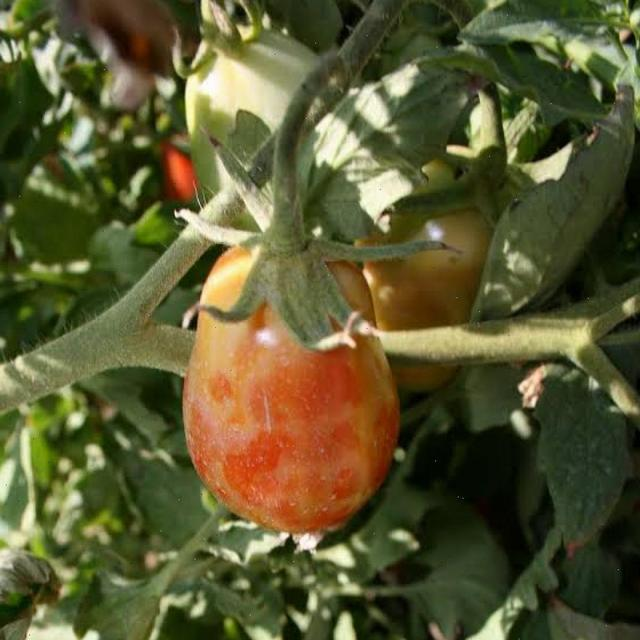Spotted wilt Virus Fruit: (122, 155, 269, 359)
